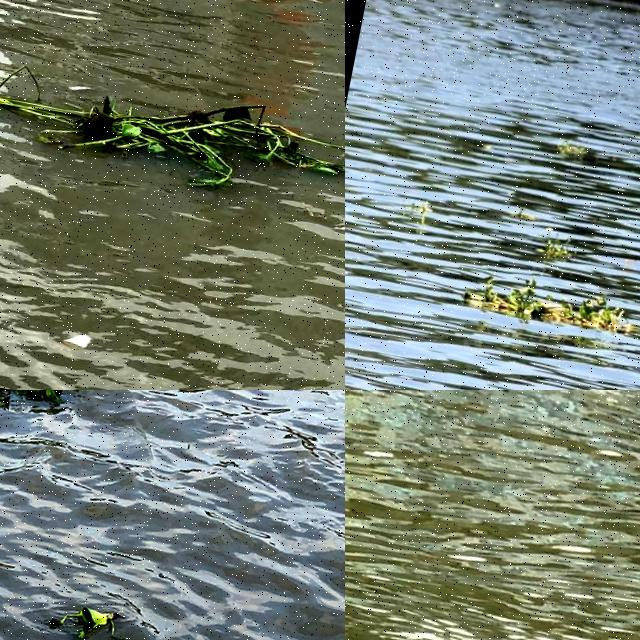water-hyacinth: (1, 22, 346, 220), (457, 269, 640, 342), (528, 227, 582, 271), (557, 133, 594, 164), (401, 197, 437, 219)
